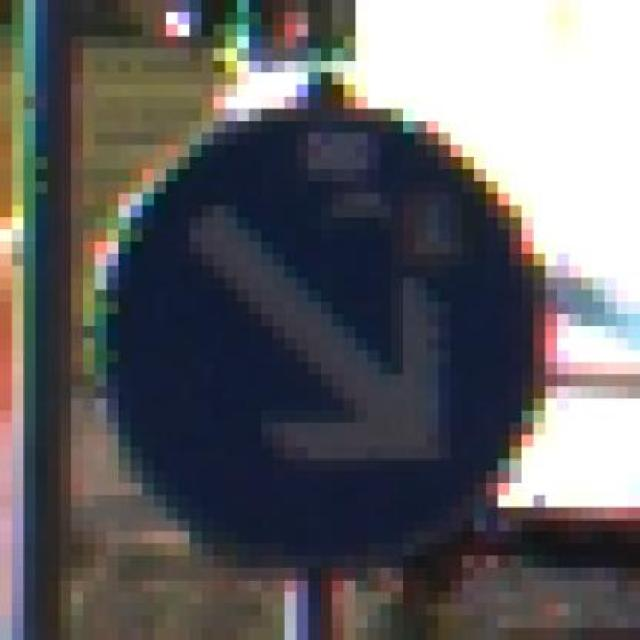Keep-Right: (83, 85, 580, 592)
